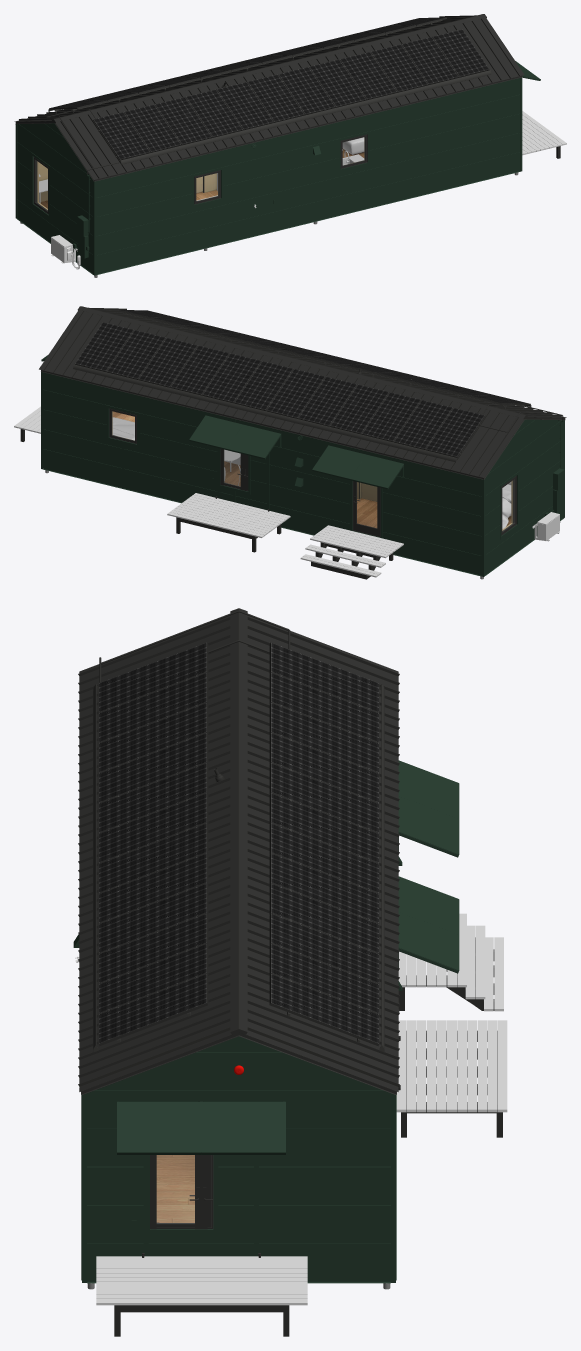
The model's file is twoBedroom.glb.
The picture shows the model from 3 angles, top to bottom: view 1: azimuth 30°, elevation 25°; view 2: azimuth 150°, elevation 25°; view 3: azimuth 270°, elevation 25°; orthographic projection. The views are drawn at different scales.
Parts seen in each view (by area): view 1: Wall_e_2B, SP_Right_2B, Roof_2B, SP_Left_2B, Shield_Right_2B, Frame_Around_2B, Glass_2B, Frame_DW_2B, Deck_DDL_2B, Window_2B, Wall_i_2B, ConstSP_Left_2B (+1 smaller); view 2: Wall_e_FrontWindow_2B, SP_Left_2B, Roof_2B, Wall_e_DDF_2B, Wall_e_2B, SP_Right_2B, Desk_DDF_2B, Desk_2B, Awning_DDF_2B, Awning_DoorEnt_Front_2B, Shield_Left_2B, Frame_Around_2B (+17 smaller); view 3: Roof_2B, SP_Left_2B, SP_Right_2B, Wall_e_DDL_2B, Deck_DDL_2B, Desk_DDF_2B, Awning_DDL_2B, Wall_e_LeftWindow_2B, Desk_2B, Awning_DDF_2B, Awning_DoorEnt_Front_2B, Floor_2B (+9 smaller).
Boxes of the visible parts, x1,y1,x2,y2 form: Wall_e_2B: (17,78,519,273); SP_Right_2B: (93,29,489,160); Roof_2B: (14,14,524,181); SP_Left_2B: (50,17,446,109); Shield_Right_2B: (120,70,491,164); Frame_Around_2B: (15,77,522,275); Glass_2B: (35,137,364,210); Frame_DW_2B: (31,118,370,247); Deck_DDL_2B: (522,111,566,155); Window_2B: (33,134,367,214); Wall_i_2B: (37,137,364,209); ConstSP_Left_2B: (54,20,442,113); Wall_e_FrontWindow_2B: (43,372,481,575); SP_Left_2B: (74,322,485,457); Roof_2B: (39,306,566,479); Wall_e_DDF_2B: (43,372,481,575); Wall_e_2B: (485,419,563,574); SP_Right_2B: (119,310,529,405); Desk_DDF_2B: (167,493,290,537); Desk_2B: (300,525,403,577); Awning_DDF_2B: (189,415,281,459); Awning_DoorEnt_Front_2B: (312,445,403,489); Shield_Left_2B: (73,364,457,462); Frame_Around_2B: (41,372,564,576); Roof_2B: (78,608,399,1094); SP_Left_2B: (269,642,379,1046); SP_Right_2B: (98,642,208,1045); Wall_e_DDL_2B: (87,1036,390,1281); Deck_DDL_2B: (96,1256,307,1305); Desk_DDF_2B: (396,1020,507,1112); Awning_DDL_2B: (117,1101,285,1154); Wall_e_LeftWindow_2B: (87,1128,390,1256); Desk_2B: (398,913,503,1011); Awning_DDF_2B: (398,876,459,973); Awning_DoorEnt_Front_2B: (398,760,459,857); Floor_2B: (156,1155,194,1222).
Size of the model in its own units: 16.34 by 4.26 by 6.26.
Materials: 29 (3 with a texture image).
